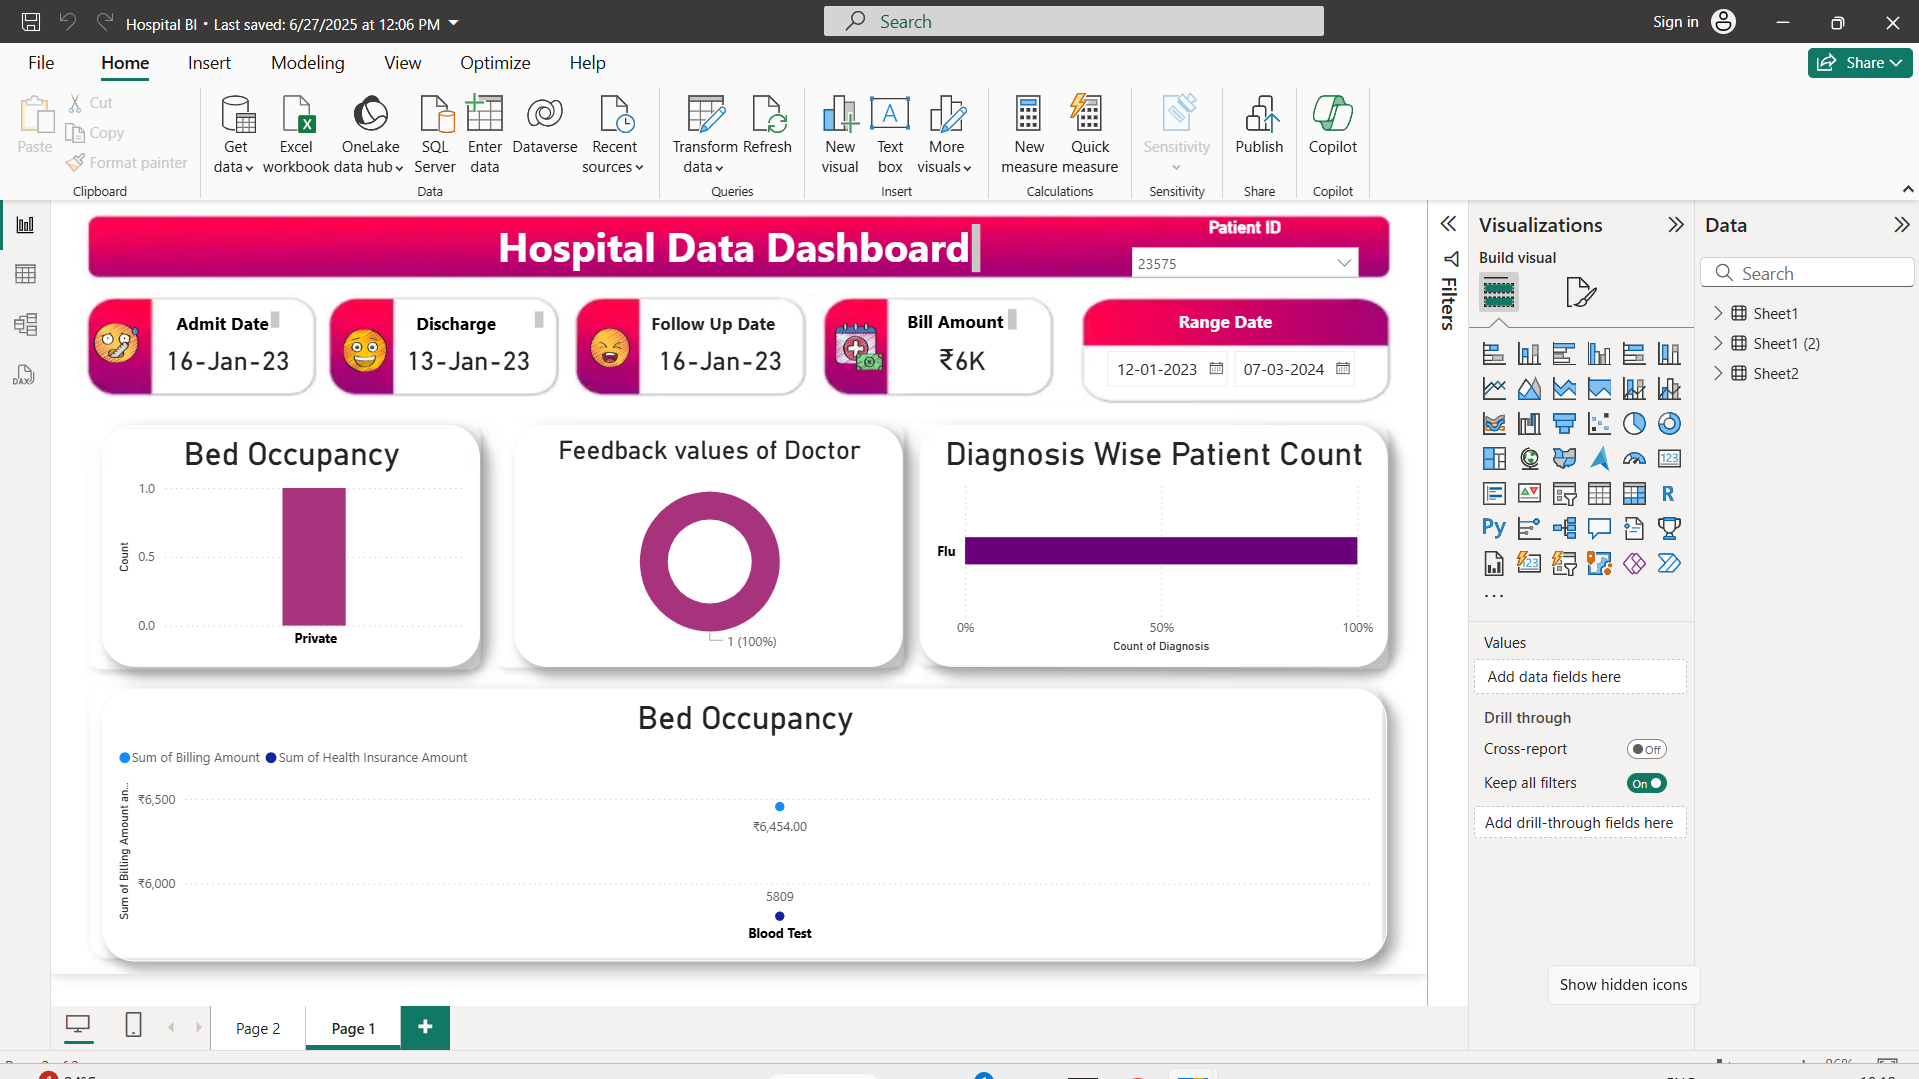

Layout of this report page (visuals, bound fields, positions):
{"tool":"powerbi","page":{"name":"Page 1","canvas":[1280,720],"ordinal":1},"visuals":[{"type":"textbox","box":[409.3,15.1,460.5,57],"z":0},{"type":"textbox","box":[553,98.8,138.6,34.3],"z":1000},{"type":"textbox","box":[111.6,98.8,105.8,27.9],"z":2000},{"type":"textbox","box":[334.9,98.8,127.9,31.4],"z":3000},{"type":"textbox","box":[791.9,96.5,111.6,30.2],"z":4000},{"type":"textbox","box":[1044.2,96.5,105.8,33.7],"z":5000},{"type":"slicer","title":"Date","fields":{"Values":["Sheet1.Admit_Date"]},"box":[969.8,130.2,254.7,45.3],"z":6000},{"type":"slicer","title":"Patient ID","fields":{"Values":["Sheet1.Patient_ID"]},"box":[994.9,16.5,230.5,56.3],"z":7000},{"type":"card","fields":{"Values":["Min(Sheet1.Admit_Date)"]},"box":[97.7,133.7,133.7,30.2],"z":8001},{"type":"card","fields":{"Values":["Min(Sheet1.Discharge_Date)"]},"box":[317.4,130.2,141.9,37.2],"z":8003},{"type":"card","fields":{"Values":["Min(Sheet1.Followup Date)"]},"box":[555.8,133.7,133.7,30.2],"z":8004},{"type":"card","fields":{"Values":["Sum(Sheet1.Billing Amount)"]},"box":[779.1,130.2,137.2,37.2],"z":8005},{"type":"columnChart","title":"Bed Occupancy","fields":{"Category":["Sheet1.Bed_Occupancy"],"Y":["CountNonNull(Sheet1.Bed_Occupancy)"]},"box":[47.7,209.3,351.2,224.4],"z":8006},{"type":"donutChart","title":"Feedback values of  Doctor","fields":{"Category":["Sheet1.Bed_Occupancy"],"Y":["CountNonNull(Sheet1.Bed_Occupancy)"]},"box":[431.4,209.3,360.5,224.4],"z":8007},{"type":"hundredPercentStackedBarChart","title":"Diagnosis Wise Patient Count","fields":{"Category":["Sheet1.Diagnosis"],"Y":["CountNonNull(Sheet1.Diagnosis)"]},"box":[808.1,209.3,434.9,224.4],"z":8008},{"type":"lineChart","title":"Bed Occupancy","fields":{"Category":["Sheet1.Test"],"Y":["Sum(Sheet1.Billing Amount)","Sum(Sheet1.Health Insurance Amount)"]},"box":[47.7,454.7,1195.4,253.5],"z":8009},{"type":"image","box":[31.4,107,58.1,52.3],"z":8010},{"type":"image","box":[266.3,112.8,51.2,54.7],"z":8011},{"type":"image","box":[486,114,67.4,47.7],"z":8012},{"type":"image","box":[724.4,107,54.7,59.3],"z":8013}]}

Visuals, with their boxes on the page's 1280x720 design canvas (x1, y1, x2, y2). These are canvas units, not pixel positions in the 1919x1079 screenshot, which may show the page scaled, cropped or inside an application window:
textbox: <bbox>409, 15, 870, 72</bbox>
textbox: <bbox>553, 99, 692, 133</bbox>
textbox: <bbox>112, 99, 217, 127</bbox>
textbox: <bbox>335, 99, 463, 130</bbox>
textbox: <bbox>792, 96, 904, 127</bbox>
textbox: <bbox>1044, 96, 1150, 130</bbox>
"Date" slicer: <bbox>970, 130, 1224, 176</bbox>
"Patient ID" slicer: <bbox>995, 16, 1225, 73</bbox>
card - Min(Sheet1.Admit_Date): <bbox>98, 134, 231, 164</bbox>
card - Min(Sheet1.Discharge_Date): <bbox>317, 130, 459, 167</bbox>
card - Min(Sheet1.Followup Date): <bbox>556, 134, 690, 164</bbox>
card - Sum(Sheet1.Billing Amount): <bbox>779, 130, 916, 167</bbox>
"Bed Occupancy" columnChart: <bbox>48, 209, 399, 434</bbox>
"Feedback values of  Doctor" donutChart: <bbox>431, 209, 792, 434</bbox>
"Diagnosis Wise Patient Count" hundredPercentStackedBarChart: <bbox>808, 209, 1243, 434</bbox>
"Bed Occupancy" lineChart: <bbox>48, 455, 1243, 708</bbox>
image: <bbox>31, 107, 90, 159</bbox>
image: <bbox>266, 113, 318, 168</bbox>
image: <bbox>486, 114, 553, 162</bbox>
image: <bbox>724, 107, 779, 166</bbox>
